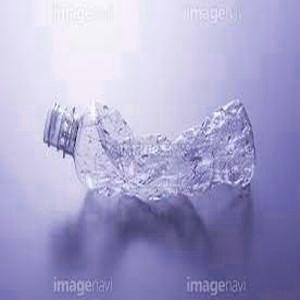Plastic: (43, 93, 257, 206)
